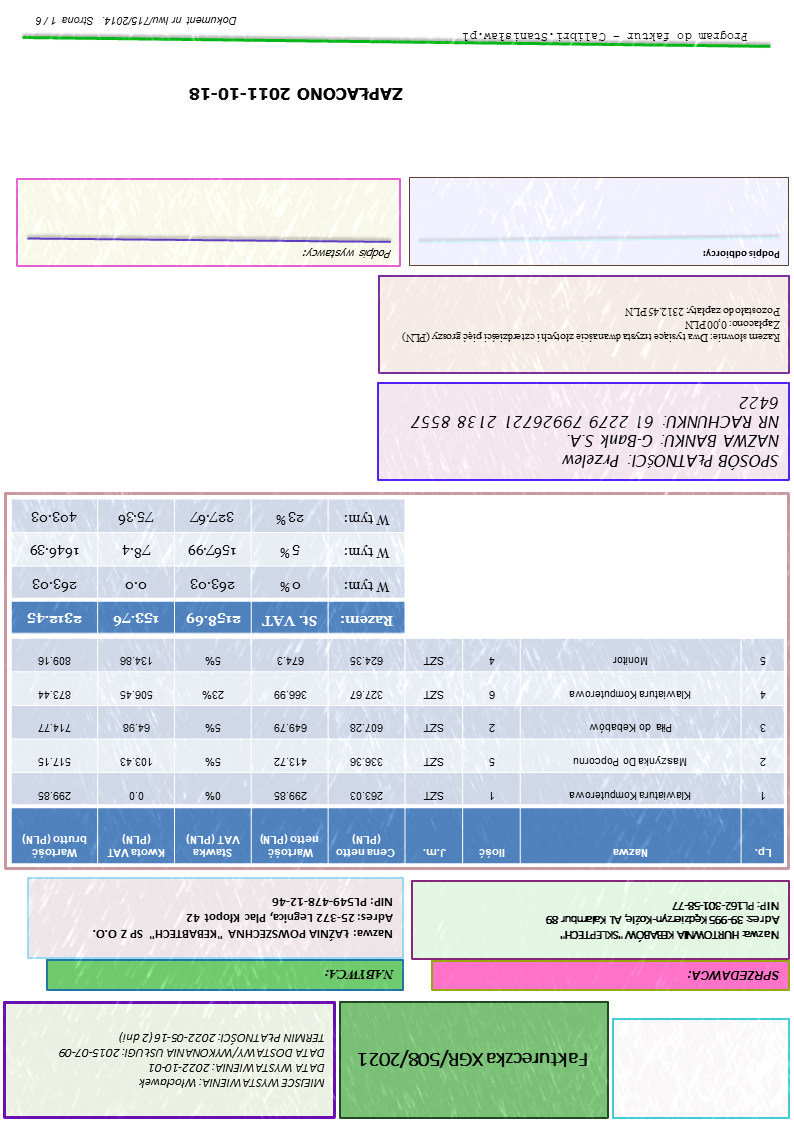Table: (12, 638, 787, 866), (13, 497, 408, 637)
TextBox: (405, 388, 783, 474), (396, 299, 786, 347), (55, 1026, 331, 1093), (87, 890, 397, 946), (540, 896, 786, 945), (357, 1045, 595, 1074), (184, 81, 411, 109), (459, 27, 752, 47), (31, 11, 242, 33), (301, 240, 396, 266), (686, 965, 786, 986), (700, 243, 787, 264), (325, 966, 399, 986)
